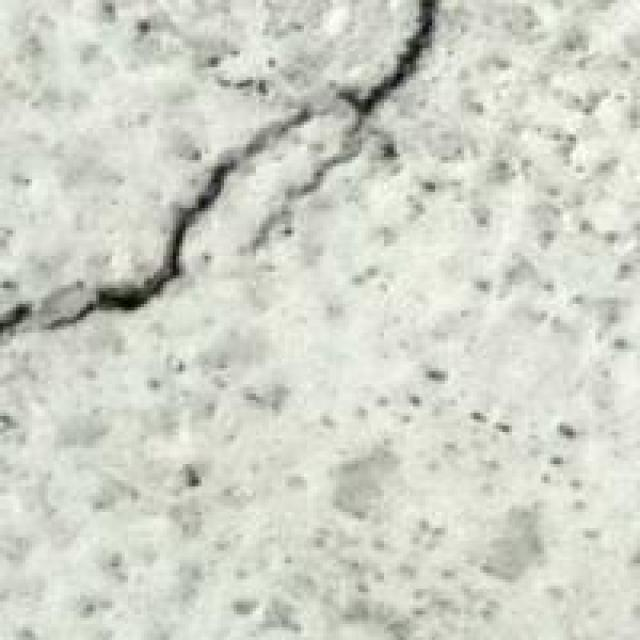Crack: (0, 0, 605, 365)
